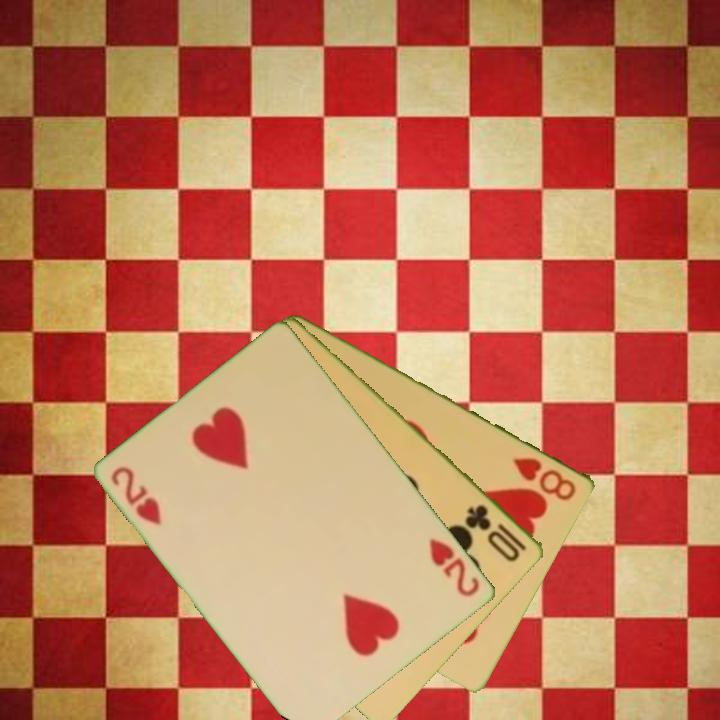10c: (462, 500, 531, 565)
2h: (107, 462, 165, 529), (426, 535, 484, 600)
8h: (510, 453, 580, 504)
